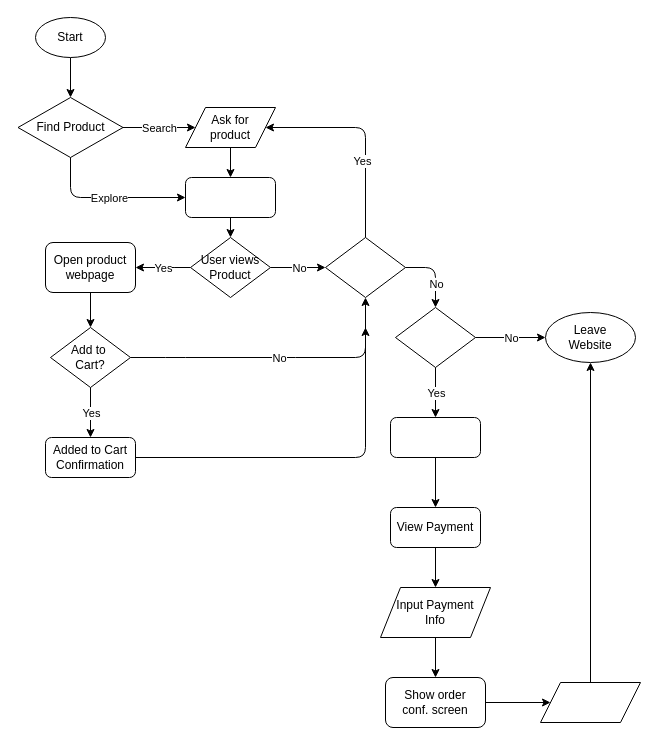
Image size: 658x745. Some labels were removed from this diagram. Each missing label, with the centre of its shape:
"Checkout?" belongs at [435,337].
"Continue shopping?" belongs at [365,267].
"Display Products" belongs at [230,197].
"Send email conf." belongs at [590,702].
"View Cart Screen" belongs at [435,437].
